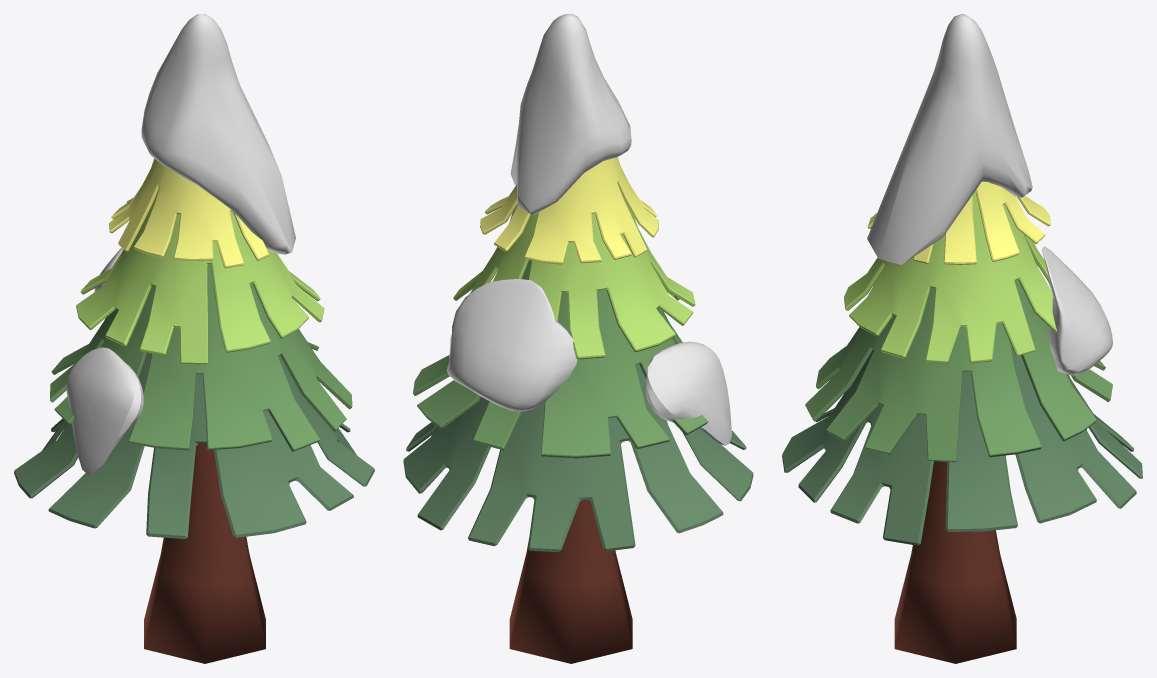
The model's file is sonw tree.fbx.
3 views of the same model, side by side, from view 1: azimuth 30°, elevation 25°; view 2: azimuth 150°, elevation 25°; view 3: azimuth 270°, elevation 25° (orthographic).
Visible parts, largest first — view 1: Cylinder.043, Cylinder.042, Sphere.010, Cylinder.041, Trunk.012, Cylinder.040, Sphere.012; view 2: Cylinder.043, Cylinder.042, Sphere.010, Trunk.012, Cylinder.041, Sphere.011, Cylinder.040, Sphere.012; view 3: Cylinder.043, Cylinder.042, Sphere.010, Cylinder.041, Trunk.012, Sphere.011, Cylinder.040.
Part boxes in pixels (x1,y1,x2,y2): Cylinder.043: (14, 353, 374, 539); Cylinder.042: (50, 264, 352, 451); Sphere.010: (141, 14, 295, 254); Cylinder.041: (76, 187, 324, 364); Trunk.012: (144, 444, 265, 663); Cylinder.040: (109, 158, 268, 268); Sphere.012: (66, 347, 143, 475); Cylinder.043: (403, 364, 753, 551); Cylinder.042: (413, 260, 708, 458); Sphere.010: (510, 14, 631, 214); Trunk.012: (509, 499, 632, 663); Cylinder.041: (453, 193, 695, 359); Sphere.011: (446, 278, 577, 411); Cylinder.040: (480, 157, 658, 264); Sphere.012: (646, 341, 731, 445); Cylinder.043: (782, 344, 1142, 545); Cylinder.042: (805, 279, 1112, 462); Sphere.010: (867, 14, 1032, 265); Cylinder.041: (844, 191, 1057, 363); Trunk.012: (894, 461, 1016, 663); Sphere.011: (1042, 246, 1112, 375); Cylinder.040: (867, 182, 1050, 264).
Bounding box in the file's own units: 378 × 732 × 387.
